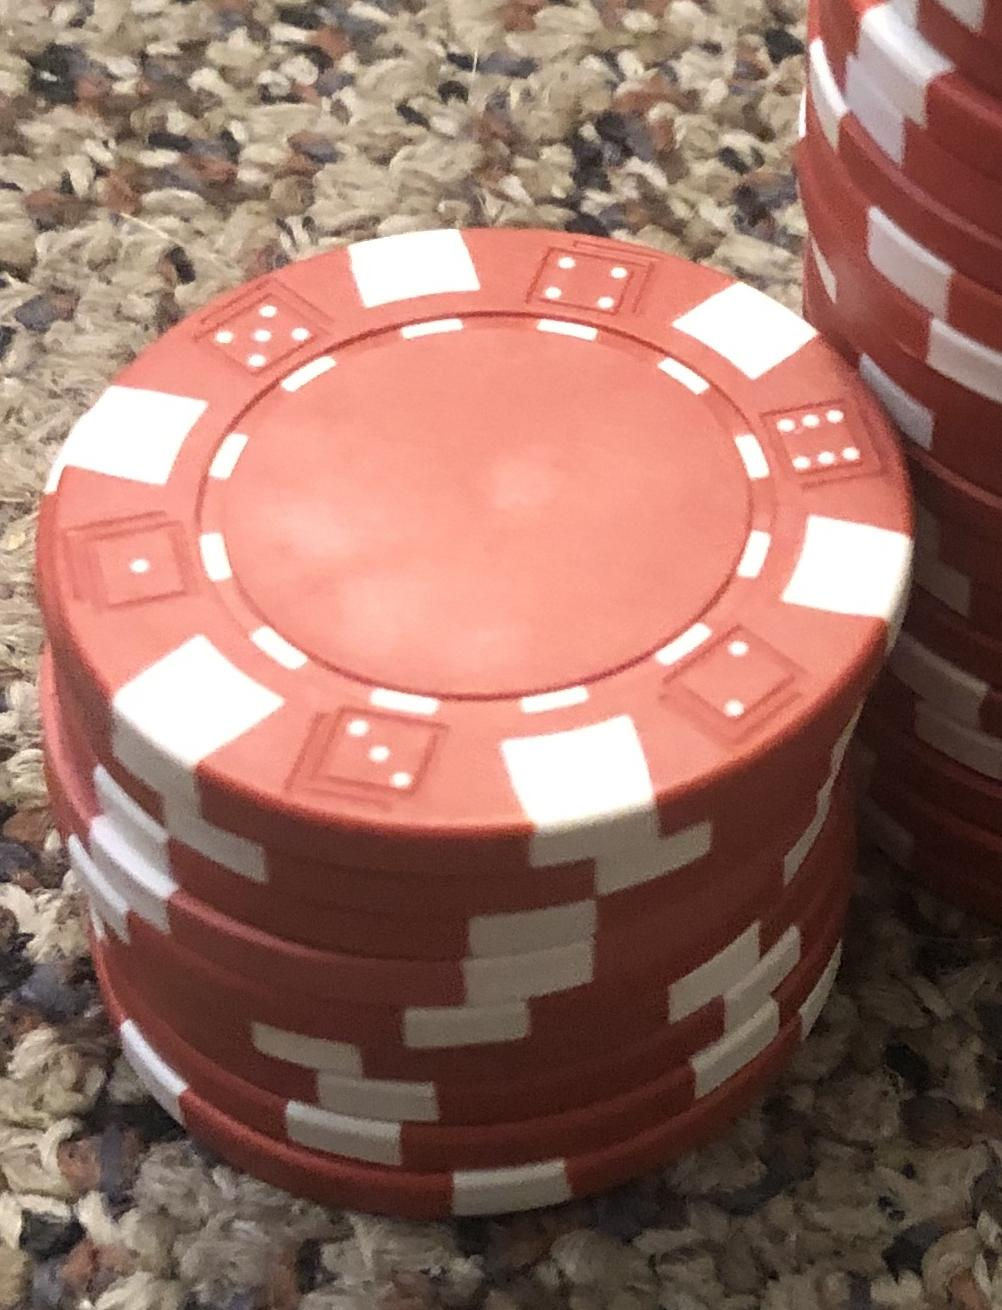Chip: (1, 1, 1002, 1310)
